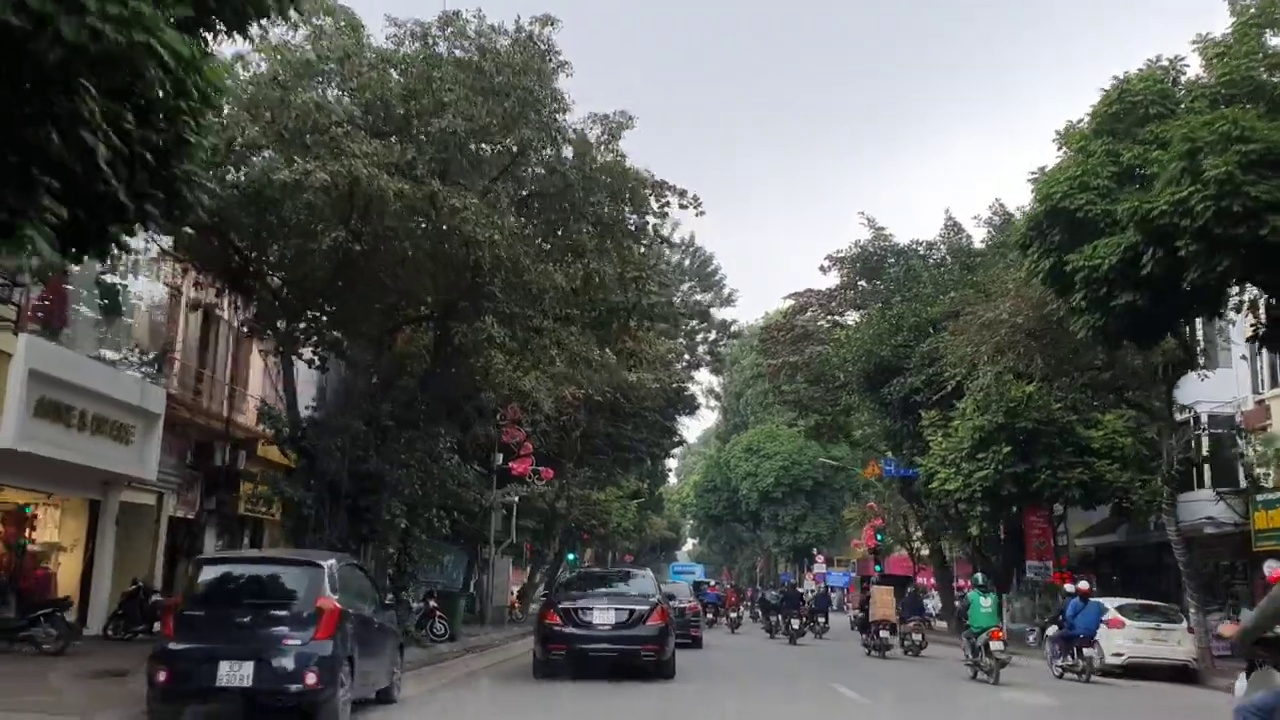vehicle-plate: (219, 659, 252, 690)
